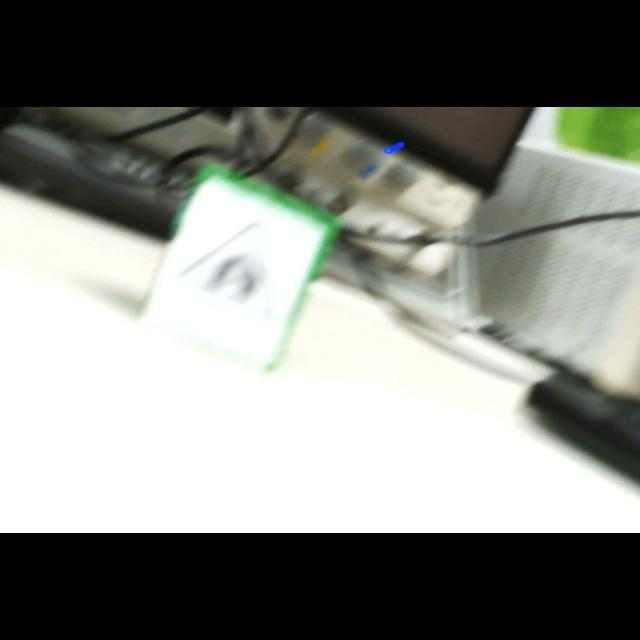Earthquake: (179, 221, 272, 320)
